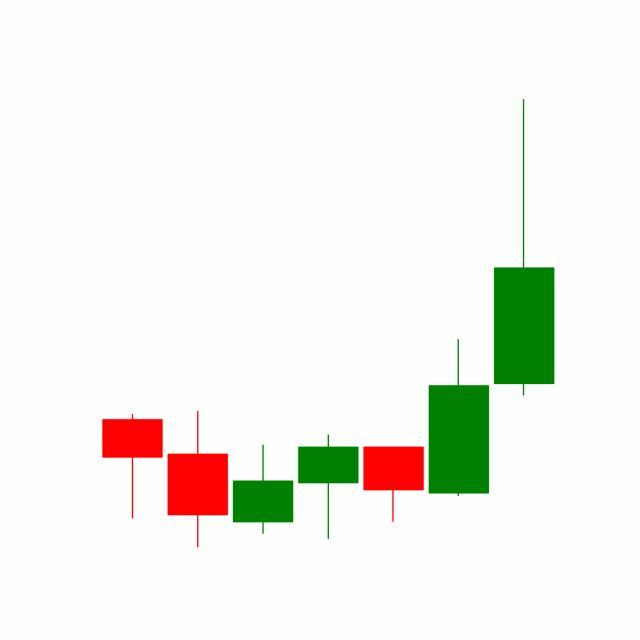Hikkake Pattern: (165, 336, 492, 549)
